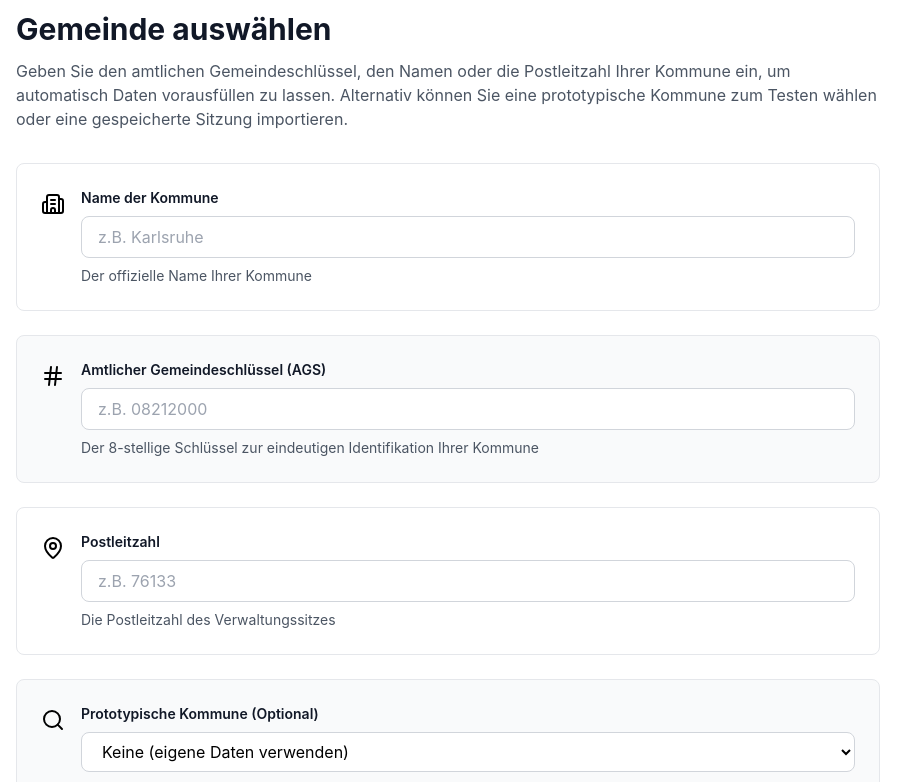
Scenario: StartView › shows autocomplete suggestions after debounce when 2+ chars entered
The width and height of the screenshot is (897, 782).
Type "Be" into the field with placeholder "z.B. Karlsruhe" at x=468, y=237, box x1=81 y1=216 x2=855 y2=258
Wait 300 ms
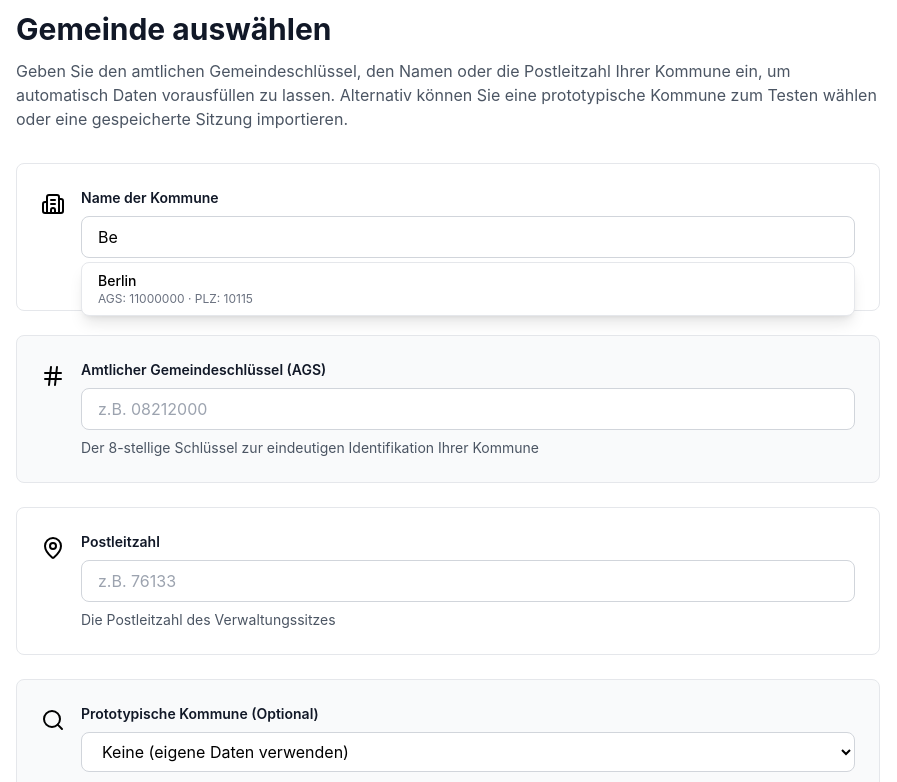
Now the text "Berlin" is shown, box x1=98 y1=272 x2=136 y2=289
Now the text "AGS: 11000000 · PLZ: 10115" is shown, box x1=98 y1=291 x2=253 y2=306
